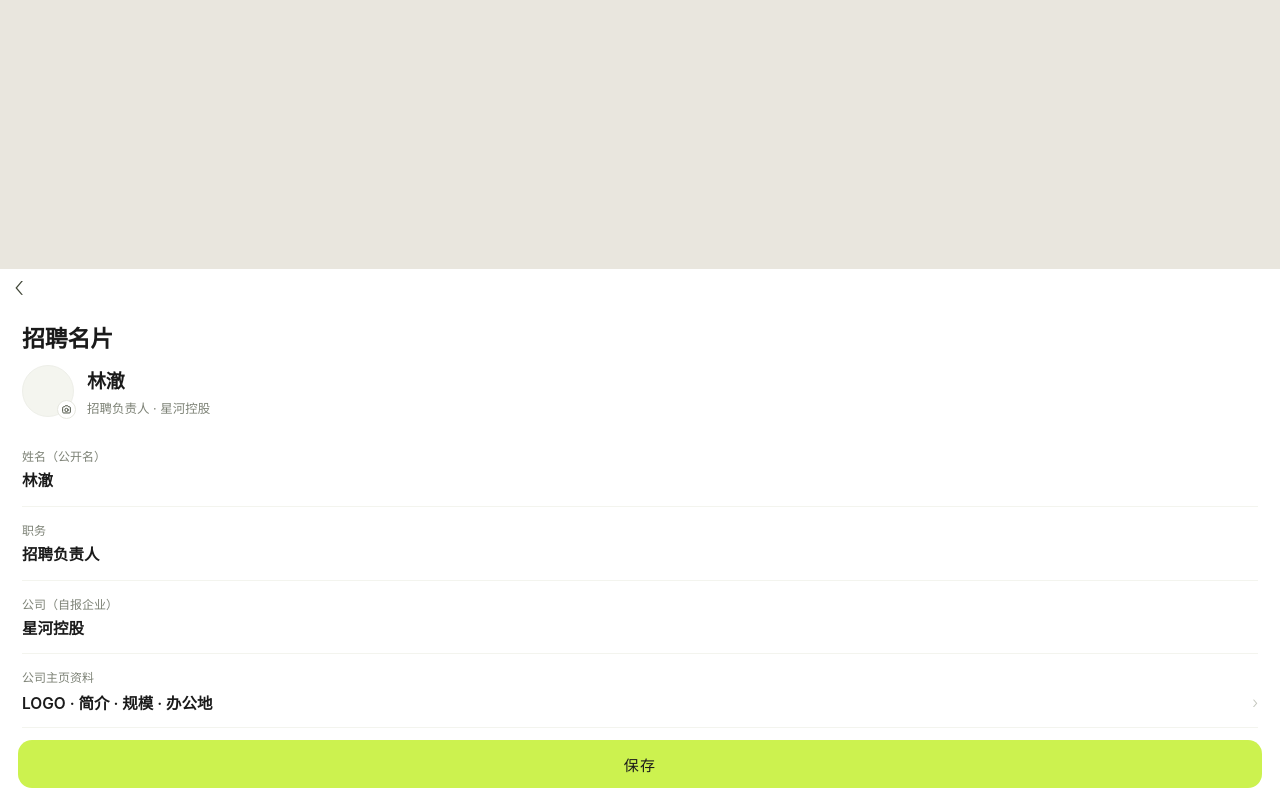
Test: 招聘名片 · Backend 诚实身份 › 未实名改名未保存：草稿即时上顶部预览（应用内普通编辑），清空不回旧名
The image size is (1280, 800).
(page scrolled)
Replace the text in the field named "姓名" with "改名未存" at (640, 481), box top-left (22, 470), bottom-right (1258, 492)
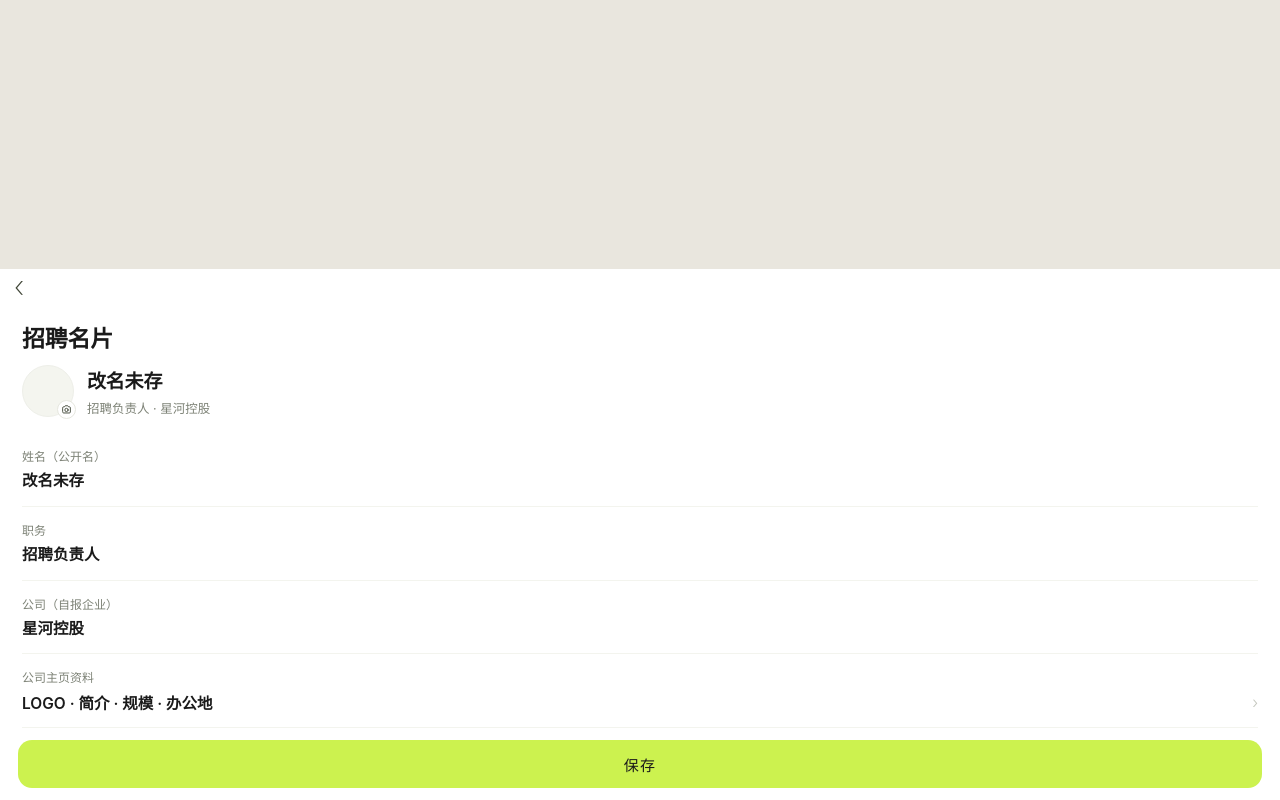
expect the text "改名未存" is shown: met, box top-left (87, 370), bottom-right (162, 393)
Note: 清空也不回旧名：预览塌到未知占位，不回落权威 public_name（林澈）
Clear the field named "姓名" at (640, 481), box top-left (22, 470), bottom-right (1258, 492)
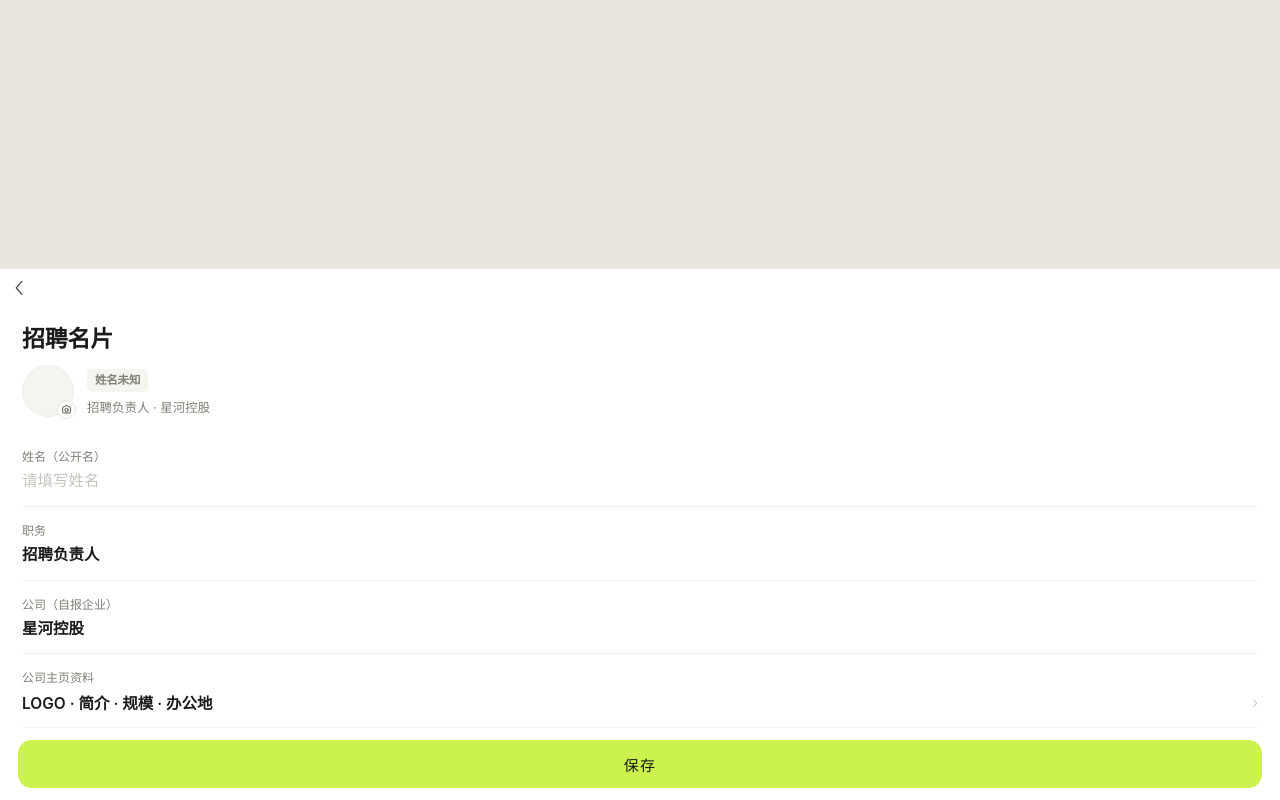
expect the text "姓名未知" does not show "林澈": met
expect the text "姓名未知" is shown: met, box top-left (87, 370), bottom-right (148, 392)
